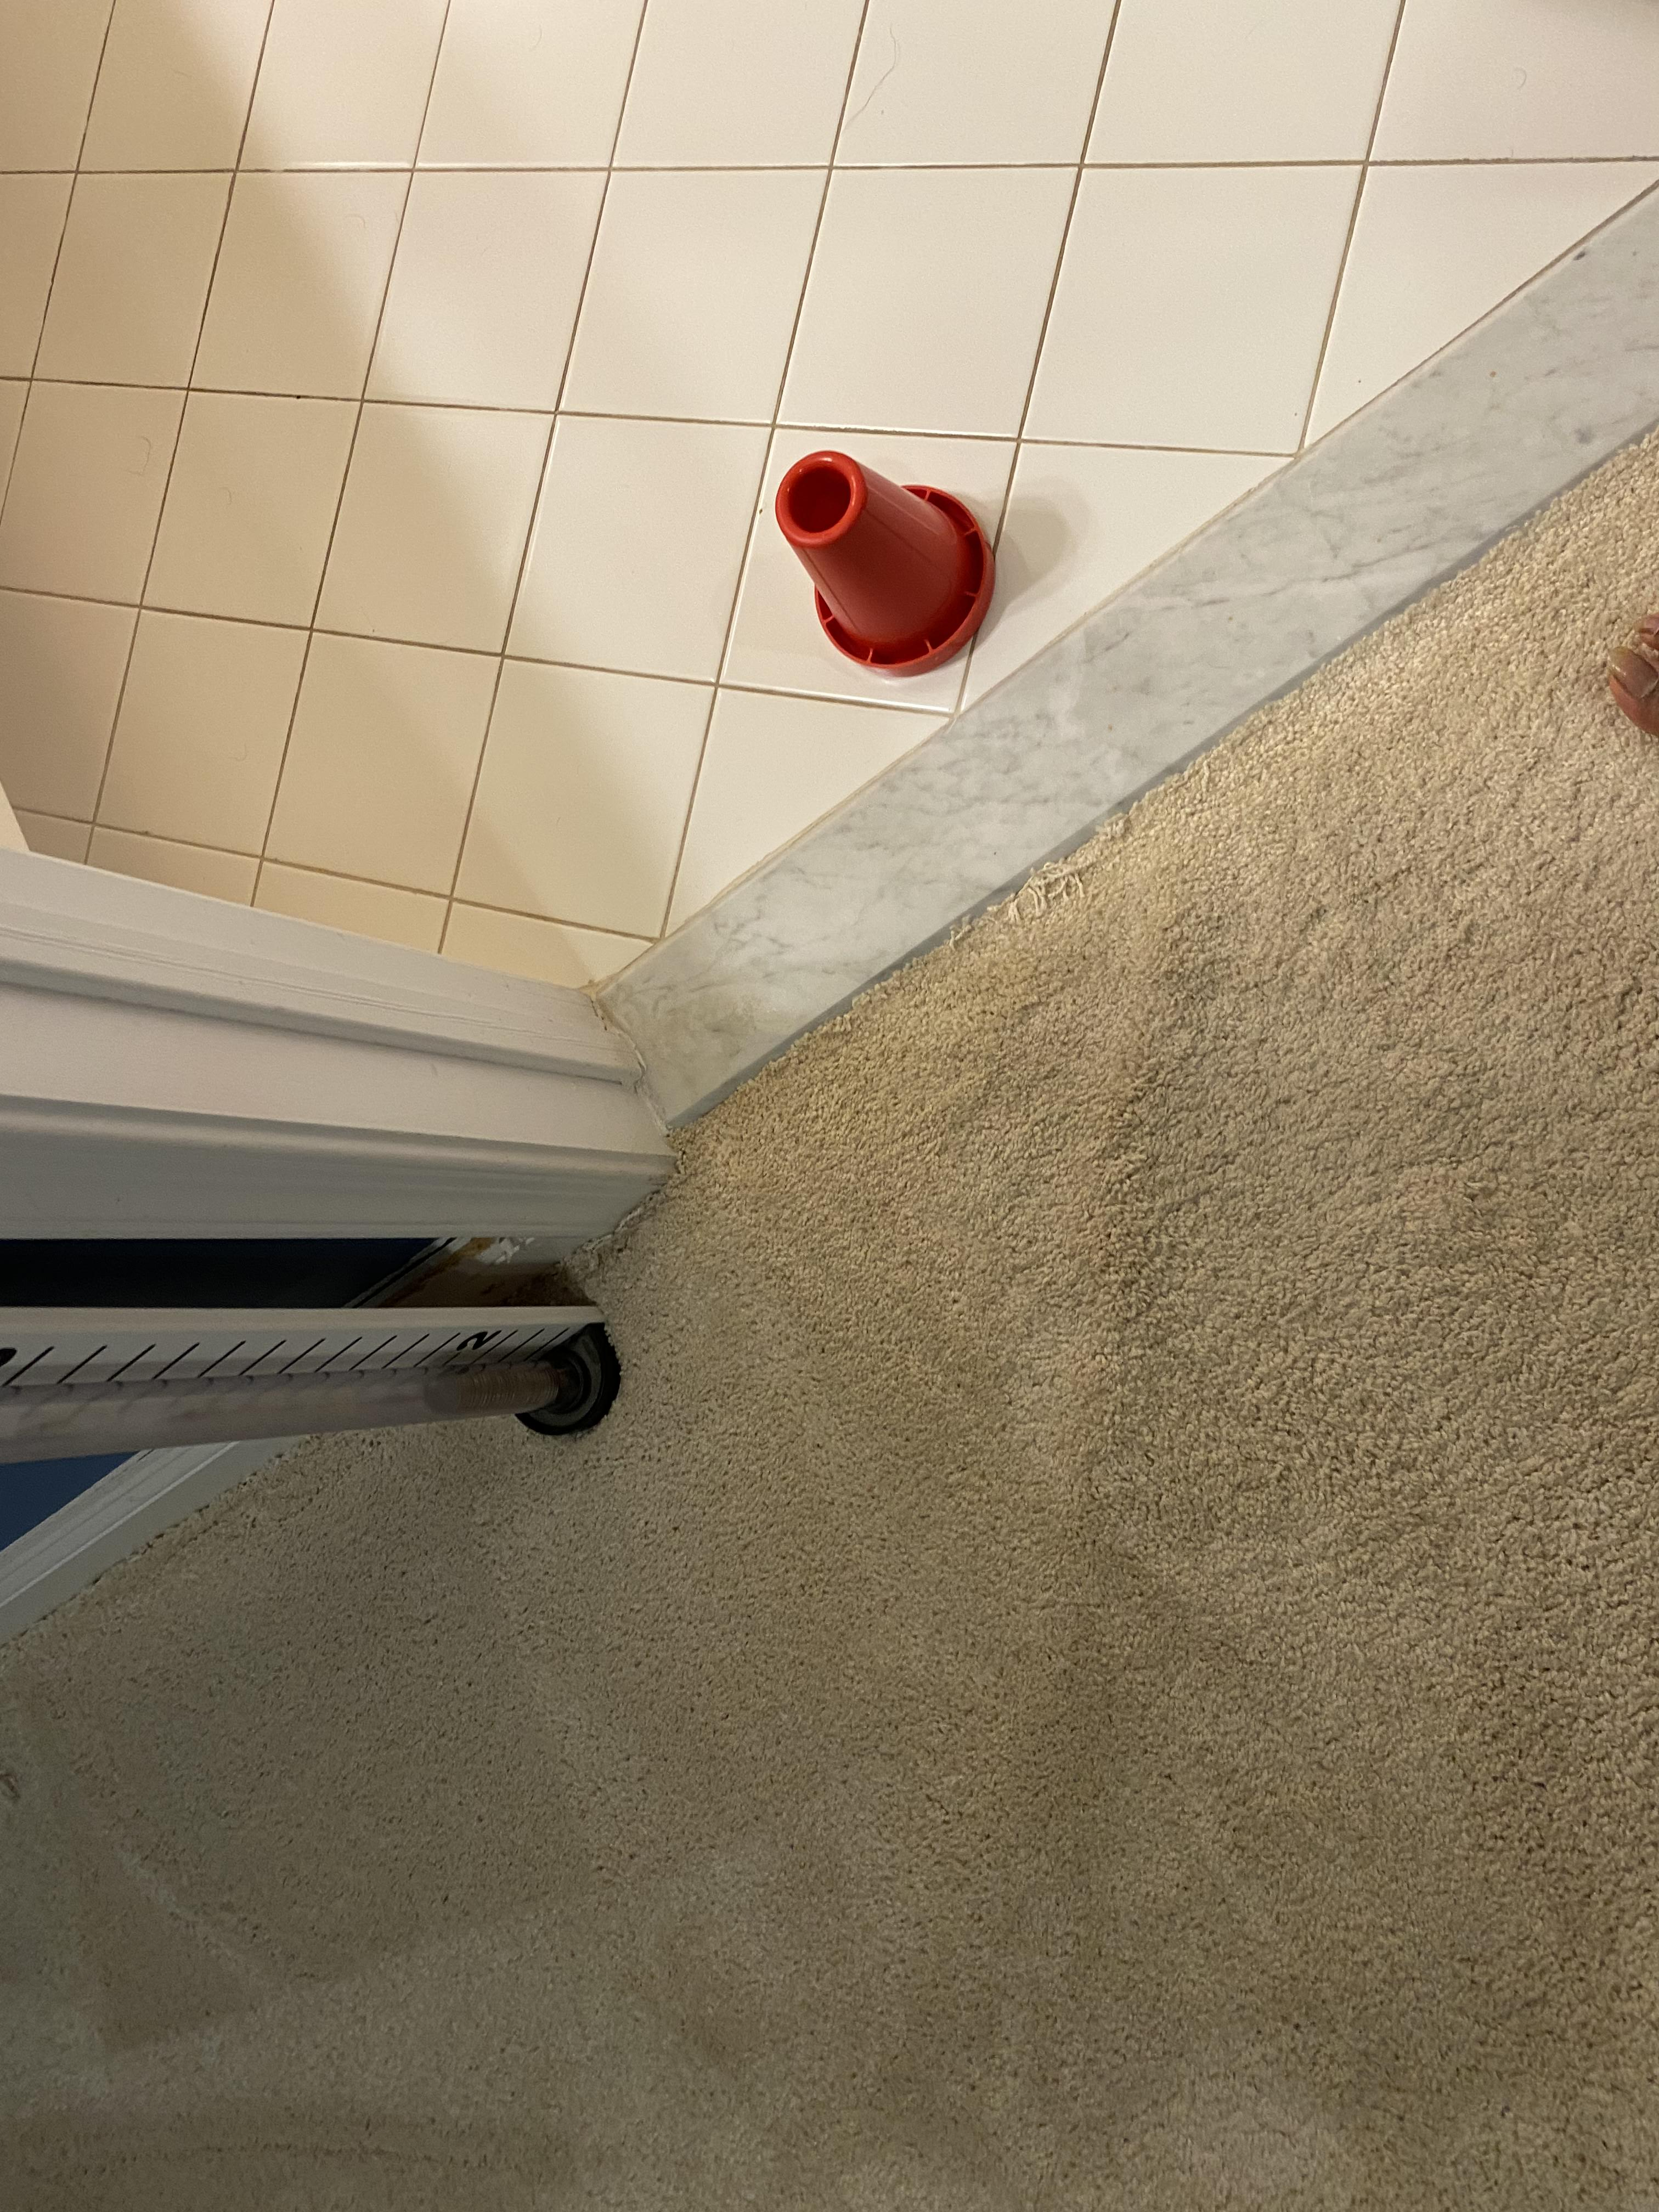redCone: (772, 448, 997, 681)
